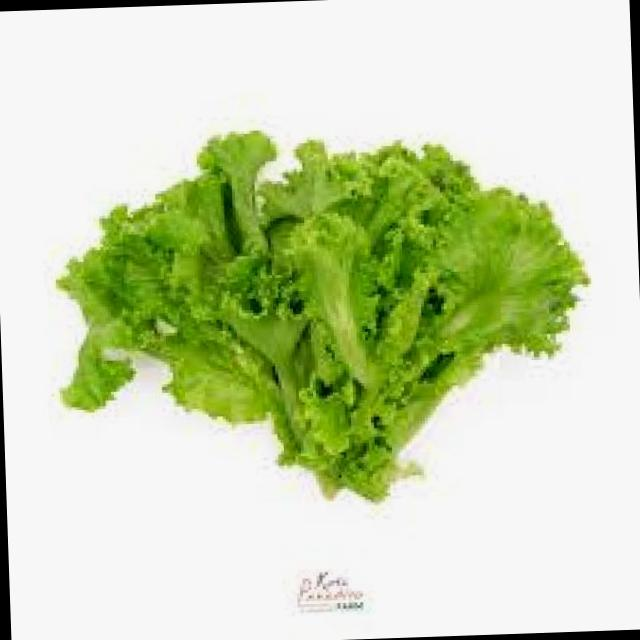Lettuce-Ready-to-Harvest: (59, 131, 584, 498)
